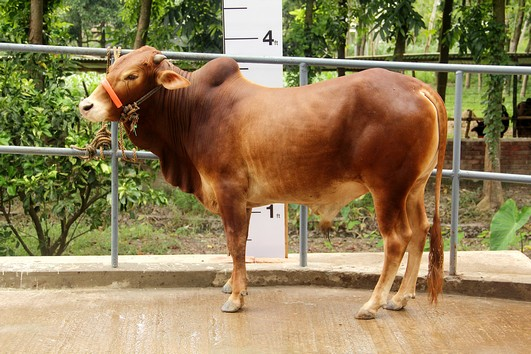cow: (77, 38, 453, 322)
